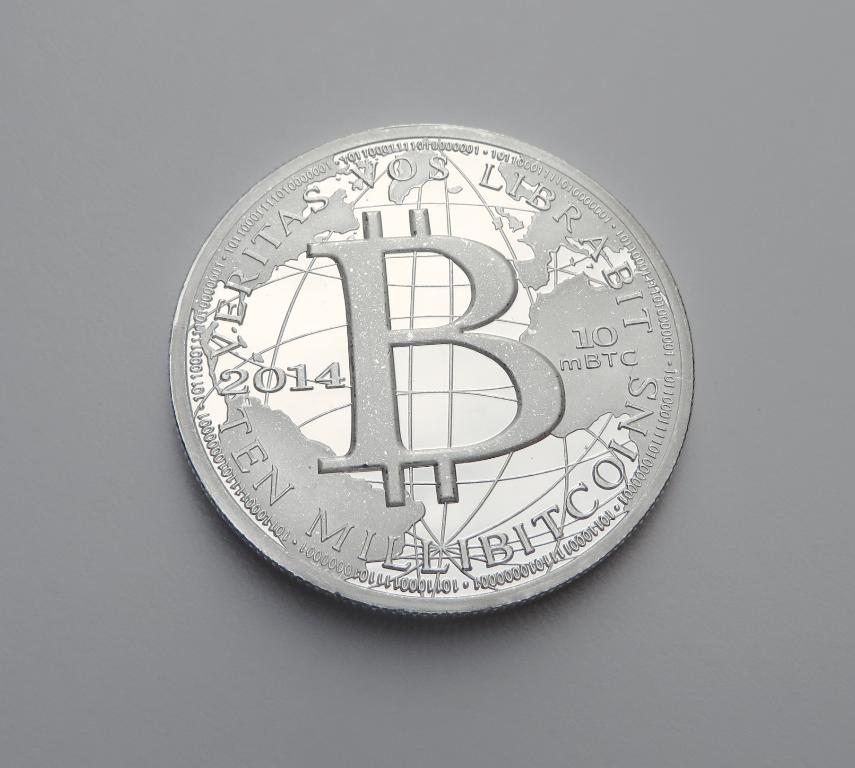Coin: (172, 123, 695, 614)
